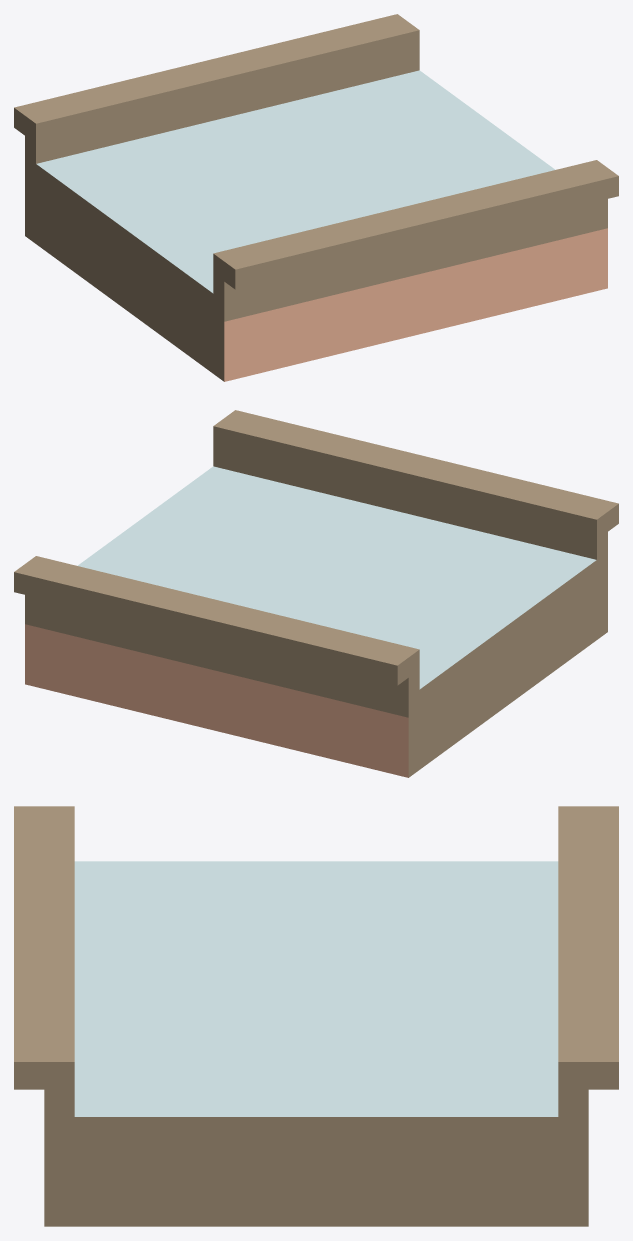
The model's file is bridge_center_wood.glb.
3 views of the same model, one above another, from view 1: azimuth 30°, elevation 25°; view 2: azimuth 150°, elevation 25°; view 3: azimuth 270°, elevation 25° (orthographic). The views are drawn at different scales.
Parts seen in each view (by area): view 1: bridge_center_wood; view 2: bridge_center_wood; view 3: bridge_center_wood.
Part boxes in pixels (left/top/right/bottom): bridge_center_wood: left=14, top=14, right=618, bottom=381; bridge_center_wood: left=14, top=410, right=618, bottom=777; bridge_center_wood: left=14, top=806, right=618, bottom=1226.
Bounding box in the file's own units: 1 × 0.3 × 1.
